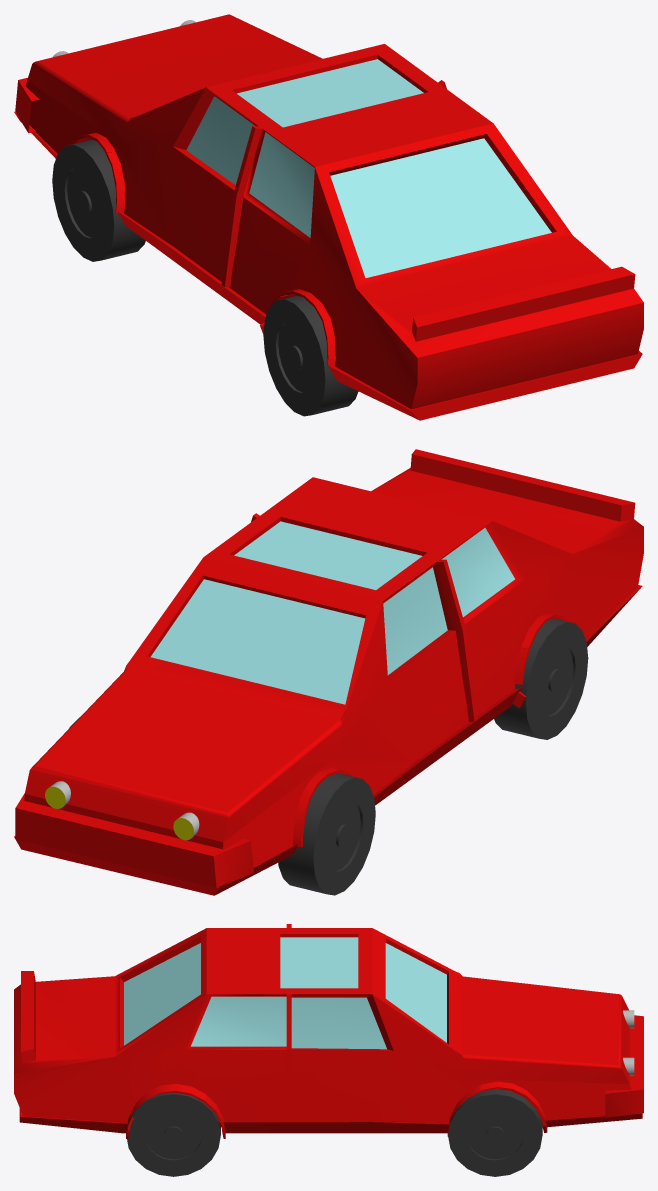
File: RedCar_Fix.fbx
3 views of the same model, one above another, from view 1: azimuth 30°, elevation 25°; view 2: azimuth 150°, elevation 25°; view 3: azimuth 270°, elevation 25° (orthographic). The views are drawn at different scales.
Parts seen in each view (by area): view 1: red_car_fixed; view 2: red_car_fixed; view 3: red_car_fixed.
Part boxes in pixels (bbox=[...]): red_car_fixed: bbox=[14, 14, 643, 420]; red_car_fixed: bbox=[14, 449, 643, 895]; red_car_fixed: bbox=[14, 924, 643, 1176].
Bounding box in the file's own units: 4.26 × 3.32 × 11.26.
